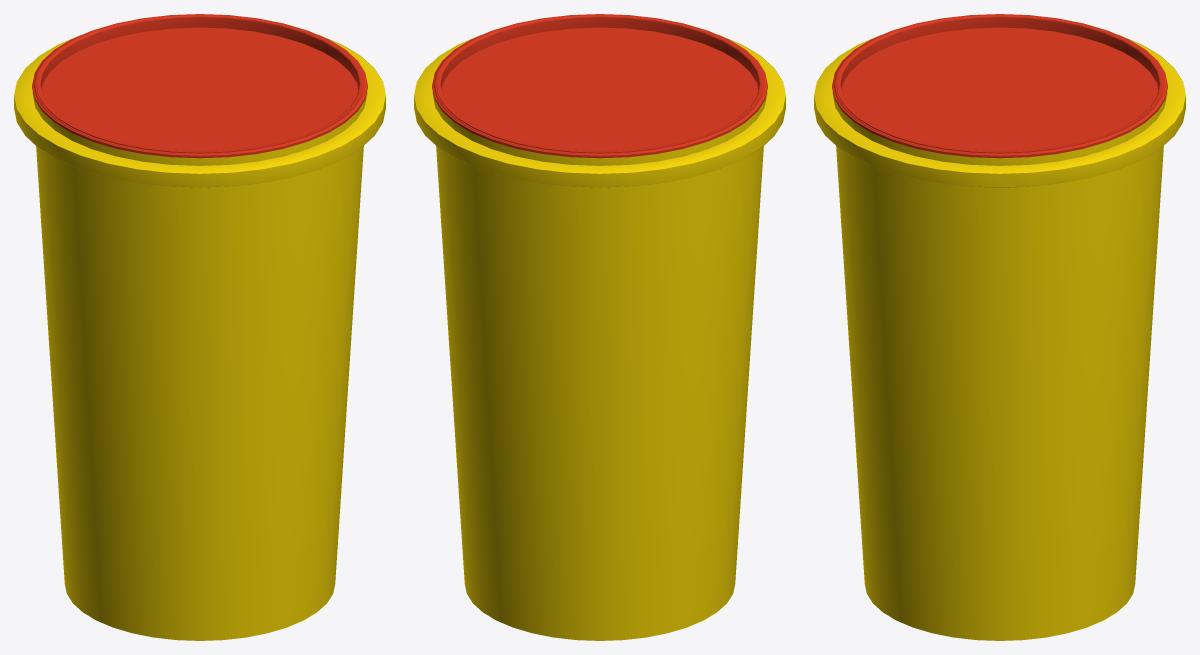
The model's file is Контейнер для отработанных материалов.dae.
3 views of the same model, side by side, from view 1: azimuth 30°, elevation 25°; view 2: azimuth 150°, elevation 25°; view 3: azimuth 270°, elevation 25° (orthographic).
Visible parts, largest first — view 1: Корпус, Крышка; view 2: Корпус, Крышка; view 3: Корпус, Крышка.
Part boxes in pixels (x1,y1,x2,y2): Корпус: [14, 34, 385, 640]; Крышка: [32, 14, 367, 158]; Корпус: [414, 34, 785, 640]; Крышка: [432, 14, 767, 158]; Корпус: [814, 34, 1185, 640]; Крышка: [832, 14, 1167, 158].
Size of the model in its own units: 11.12 by 16.51 by 11.12.
